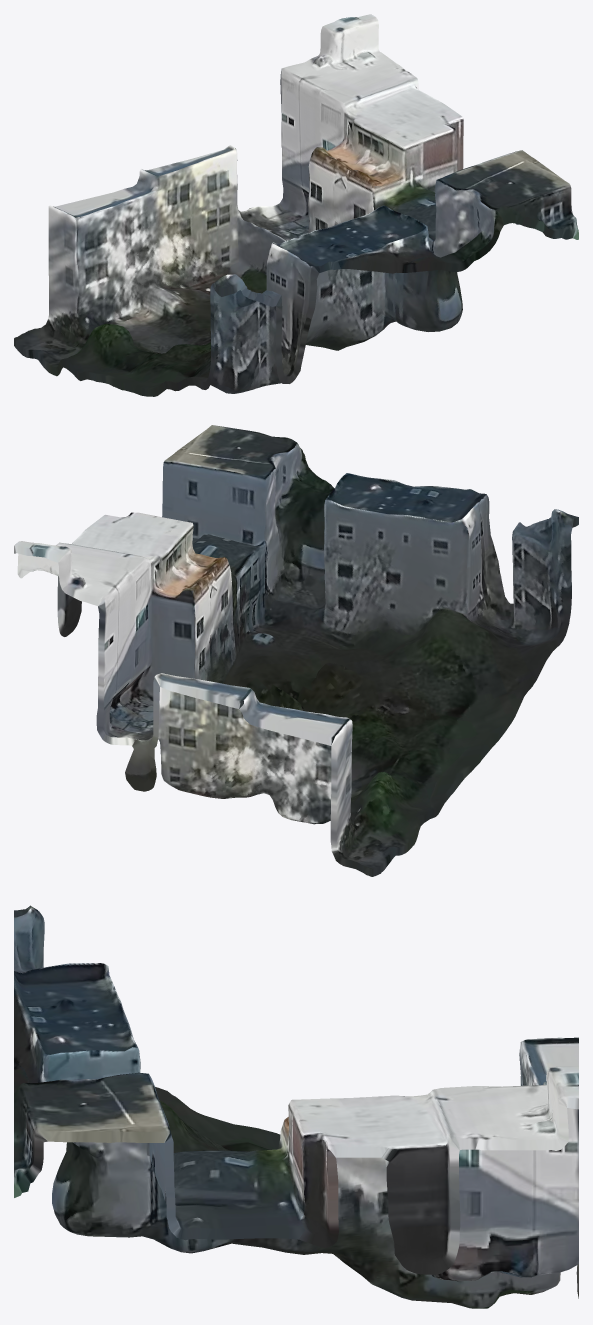
File: z20-167750-405196-h0-yup-uvflip-v3-world.glb
3 views of the same model, one above another, from view 1: azimuth 30°, elevation 25°; view 2: azimuth 150°, elevation 25°; view 3: azimuth 270°, elevation 25° (orthographic). The views are drawn at different scales.
Size of the model in its own units: 30.16 by 20.2 by 30.32.
1 material, 1 textured.
